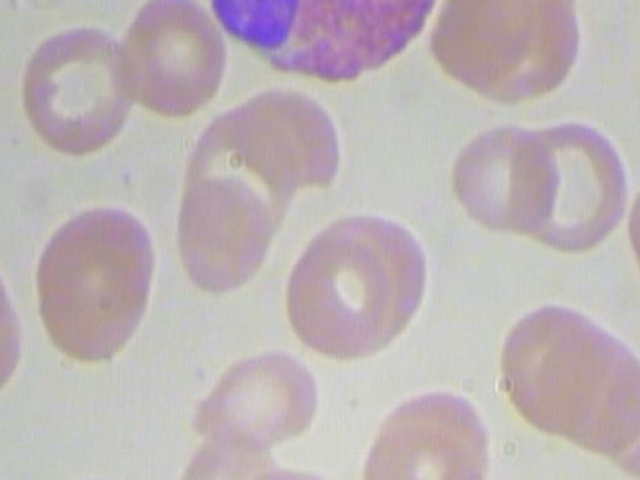RBC: (277, 207, 440, 374), (23, 199, 163, 375), (15, 23, 155, 168), (182, 331, 327, 459), (444, 112, 563, 250), (110, 0, 228, 121), (355, 403, 487, 480), (615, 143, 640, 294), (625, 7, 640, 145), (28, 474, 174, 480)
WBC: (190, 0, 457, 107)
